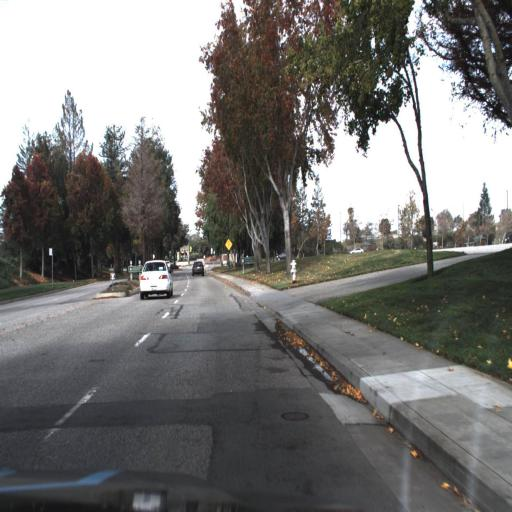car: (136, 258, 174, 304), (190, 258, 206, 276), (348, 243, 366, 257)
